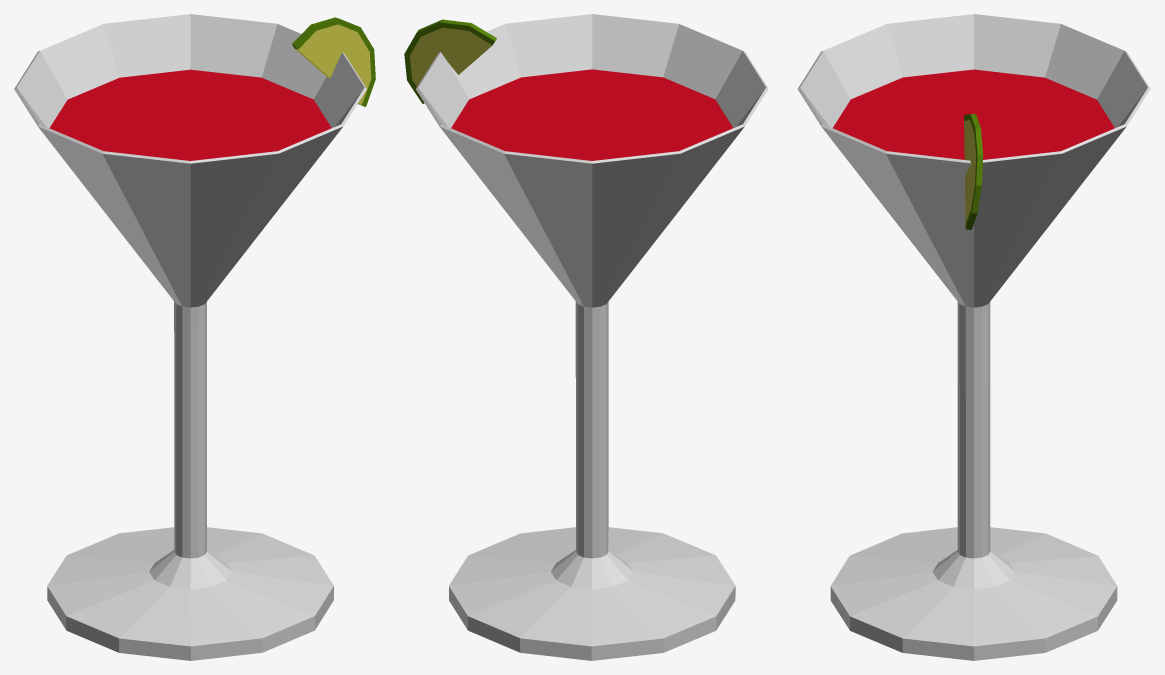
The model's file is 787e4b1c-9726-43ba-bd0d-060dbfc9d64d.glb.
The picture shows the model from 3 angles, left to right: view 1: azimuth 30°, elevation 25°; view 2: azimuth 150°, elevation 25°; view 3: azimuth 270°, elevation 25°; orthographic projection.
Parts seen in each view (by area): view 1: Node; view 2: Node; view 3: Node.
Boxes of the visible parts, x1,y1,x2,y2 form: Node: (14, 14, 375, 660); Node: (404, 14, 768, 660); Node: (797, 14, 1150, 660).
Size of the model in its own units: 2.24 by 3.46 by 2.03.
